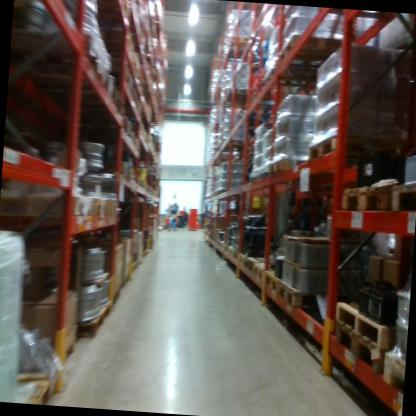pallet: (5, 91, 129, 236), (9, 25, 112, 92), (304, 128, 398, 170), (335, 290, 395, 353), (275, 21, 357, 66), (336, 176, 397, 234), (330, 323, 385, 375), (277, 272, 331, 311), (265, 61, 321, 91), (387, 170, 416, 224), (8, 376, 55, 404), (267, 152, 308, 183), (380, 352, 405, 394), (223, 32, 258, 57), (78, 313, 103, 340), (251, 255, 268, 288), (265, 270, 283, 299), (242, 252, 257, 278), (99, 301, 111, 327)
